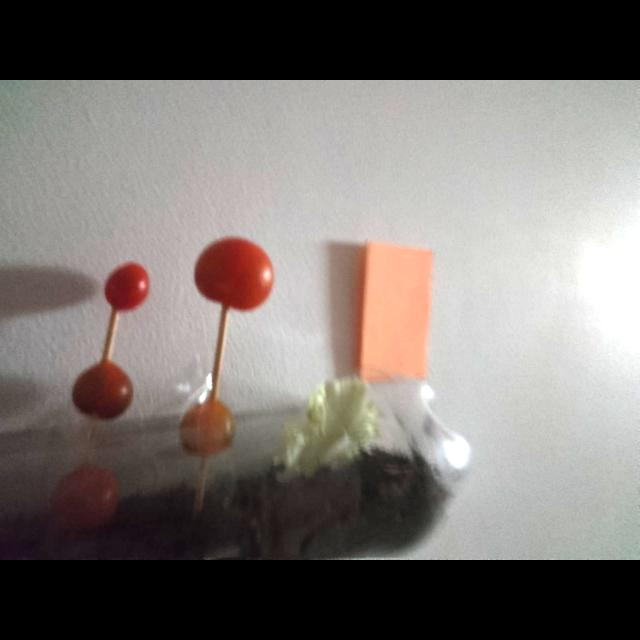card: (358, 242, 432, 381)
fruit_maturation: (180, 394, 235, 457)
fully_grown: (194, 237, 272, 309), (72, 361, 133, 419), (104, 263, 149, 311)
